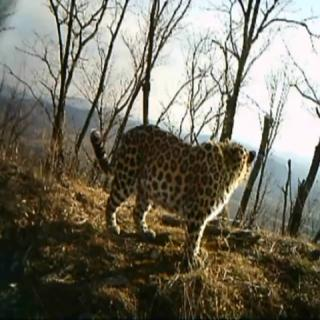Leopard: (82, 95, 260, 278)
